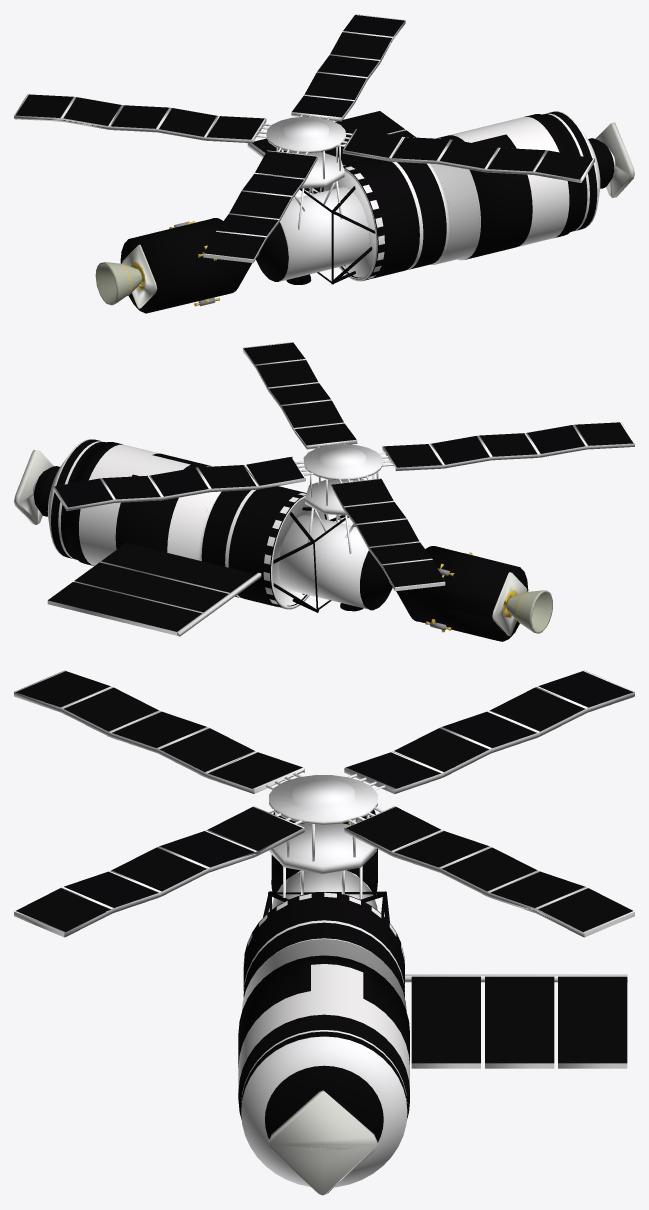
The model's file is skylab-lite.glb.
3 renders of one model, top to bottom at view 1: azimuth 30°, elevation 25°; view 2: azimuth 150°, elevation 25°; view 3: azimuth 270°, elevation 25°, orthographic. The views are drawn at different scales.
Visible parts, largest first — view 1: polySurfac; view 2: polySurfac; view 3: polySurfac.
Boxes of the visible parts, box(x1,y1,x2,y2) form: polySurfac: box(14, 14, 634, 313); polySurfac: box(14, 342, 634, 641); polySurfac: box(14, 670, 634, 1195).
Size of the model in its own units: 38.74 by 11.78 by 29.85.
Materials: 4 (4 with a texture image).
